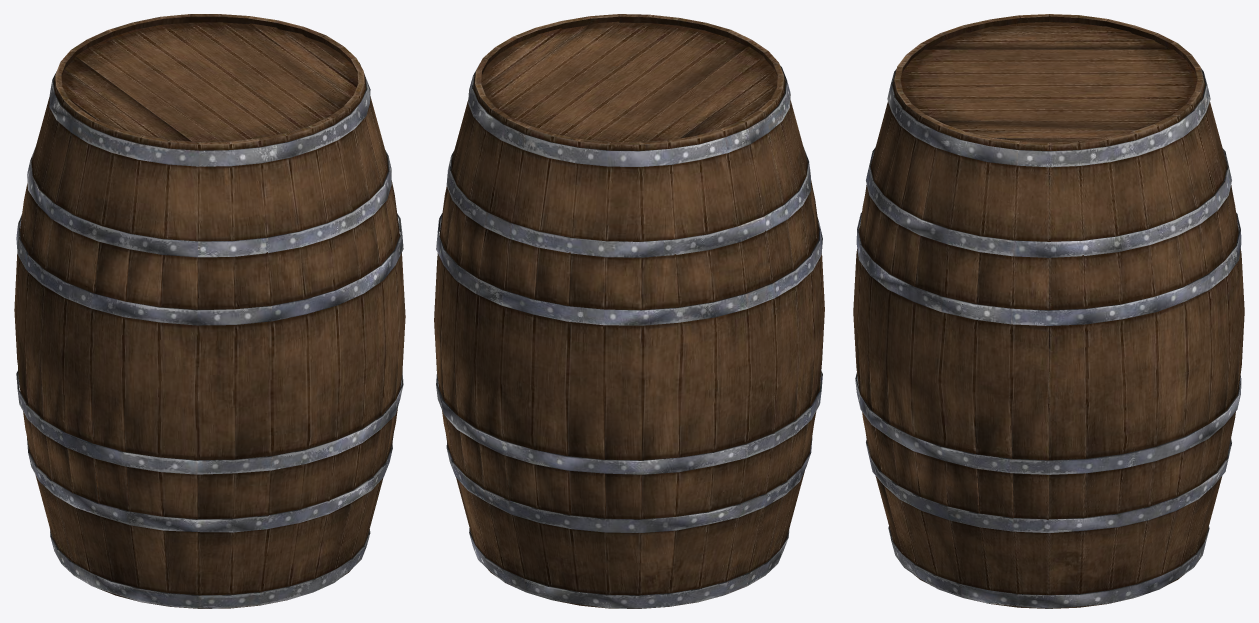
Rendered from barrel.glb.
3 renders of one model, left to right at view 1: azimuth 30°, elevation 25°; view 2: azimuth 150°, elevation 25°; view 3: azimuth 270°, elevation 25°, orthographic.
Visible parts, largest first — view 1: Barrel_Closed_w; view 2: Barrel_Closed_w; view 3: Barrel_Closed_w.
Part boxes in pixels (<box>): Barrel_Closed_w: <box>14,14,405,608</box>; Barrel_Closed_w: <box>434,14,824,608</box>; Barrel_Closed_w: <box>853,14,1244,608</box>.
Bounding box in the file's own units: 0.7247 × 0.9484 × 0.7245.
1 material, 1 textured.
